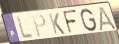A: (98, 6, 118, 32)
F: (62, 9, 78, 35)
G: (80, 8, 98, 33)
K: (48, 13, 66, 36)
L: (16, 15, 35, 40)
P: (31, 14, 47, 39)
